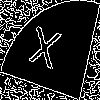X: (25, 25, 62, 79)
